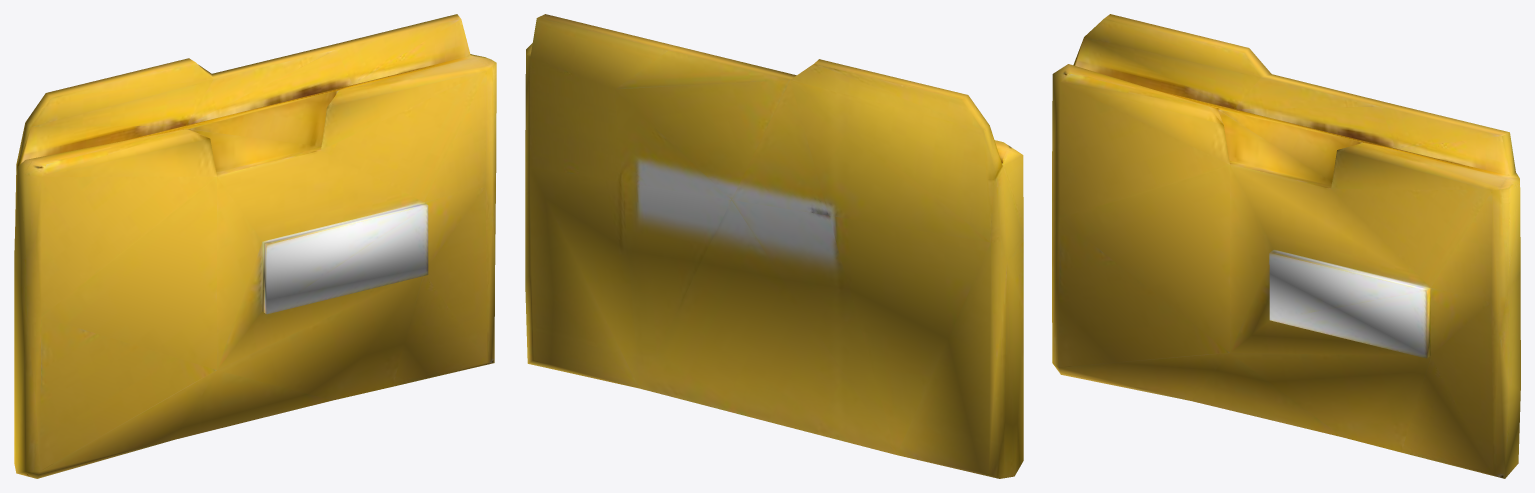
Rendered from intel_report-01b.glb.
The picture shows the model from 3 angles, left to right: view 1: azimuth 30°, elevation 25°; view 2: azimuth 150°, elevation 25°; view 3: azimuth 330°, elevation 25°; orthographic projection. The views are drawn at different scales.
Bounding box in the file's own units: 2 × 1.47 × 0.2124.
1 material, 1 textured.
